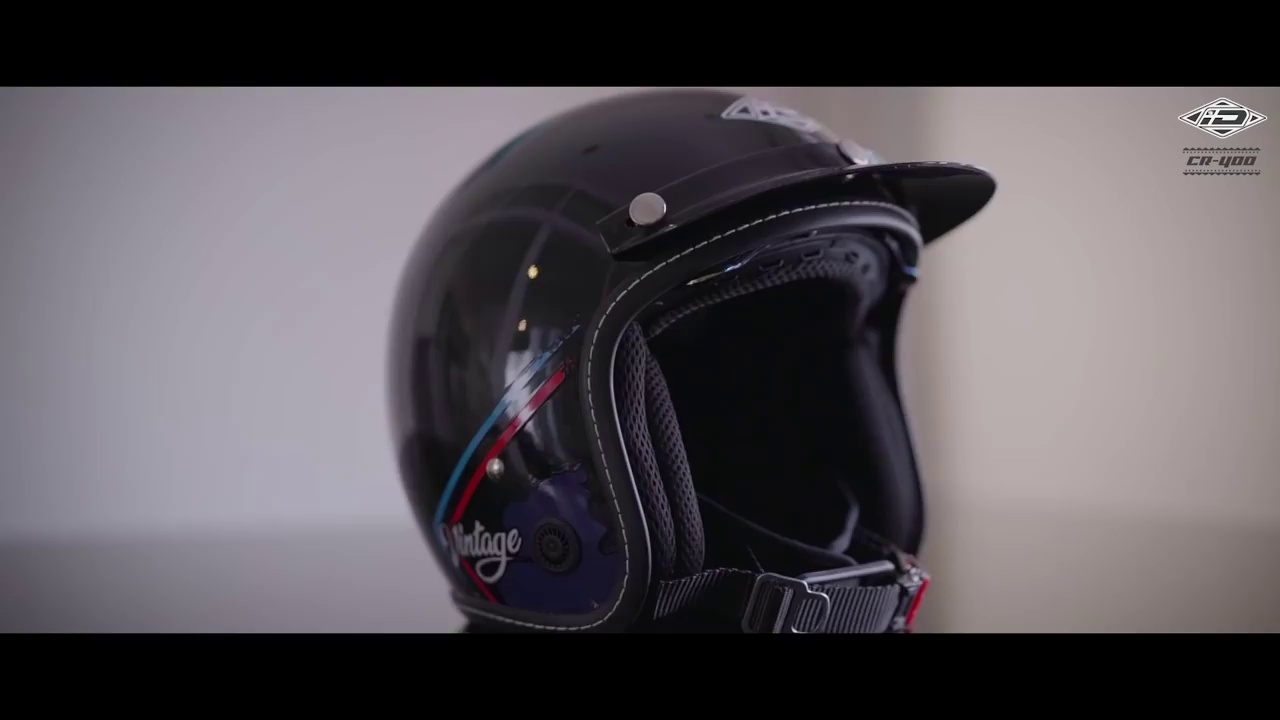helmet: (364, 87, 993, 631)
